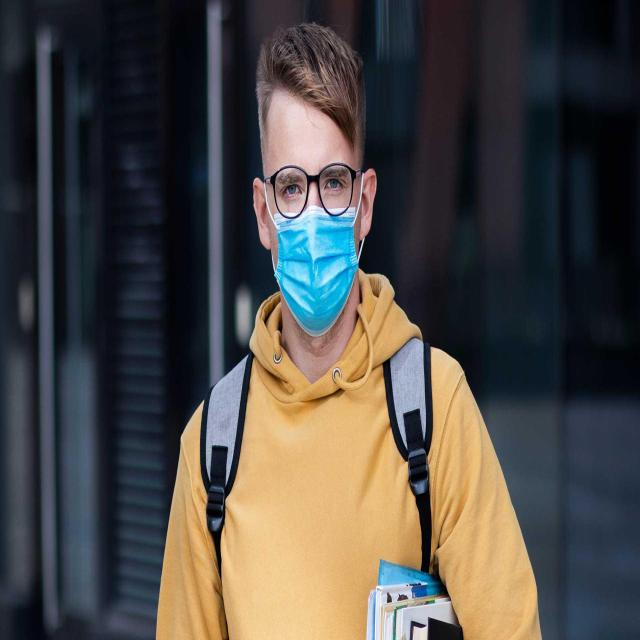Mask: (272, 205, 357, 329)
